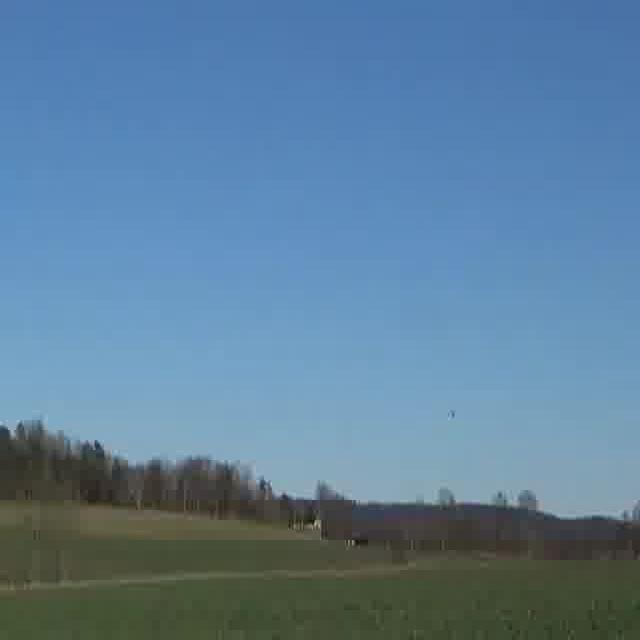bird: (446, 402, 460, 423)
